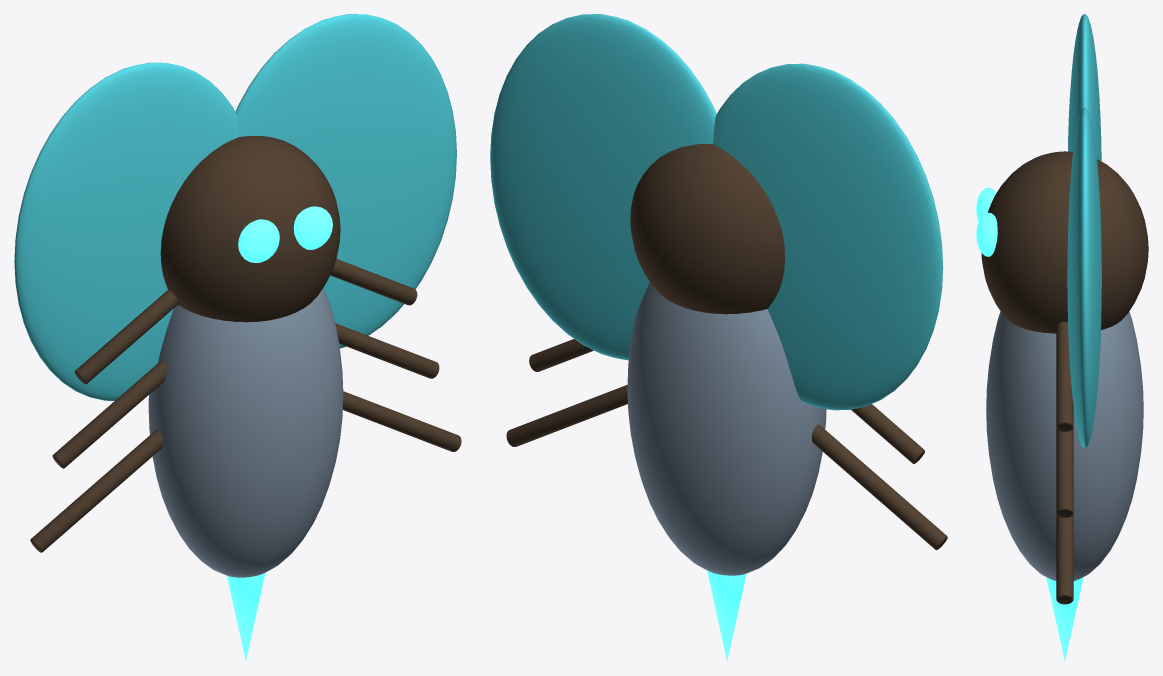
File: insect_v5.glb
3 renders of one model, left to right at view 1: azimuth 30°, elevation 25°; view 2: azimuth 150°, elevation 25°; view 3: azimuth 270°, elevation 25°, orthographic. The views are drawn at different scales.
Visible parts, largest first — view 1: HORNET_WING_ACCENT, HORNET_ABDOMEN_PRIMARY, HORNET_WING_ACCENT.001, HORNET_THORAX_SECONDARY, HORNET_LEG_SECONDARY.002, HORNET_LEG_SECONDARY.001, HORNET_LEG_SECONDARY, HORNET_LEG_SECONDARY.005, HORNET_LEG_SECONDARY.004, HORNET_STINGER_EMISSIVE, HORNET_LEG_SECONDARY.003, EYE_EMISSIVE (+1 smaller); view 2: HORNET_WING_ACCENT, HORNET_WING_ACCENT.001, HORNET_ABDOMEN_PRIMARY, HORNET_THORAX_SECONDARY, HORNET_LEG_SECONDARY.002, HORNET_LEG_SECONDARY.005, HORNET_STINGER_EMISSIVE, HORNET_LEG_SECONDARY.001, HORNET_LEG_SECONDARY.004; view 3: HORNET_ABDOMEN_PRIMARY, HORNET_THORAX_SECONDARY, HORNET_WING_ACCENT.001, HORNET_WING_ACCENT, HORNET_LEG_SECONDARY.003, HORNET_LEG_SECONDARY.005, HORNET_LEG_SECONDARY.004, HORNET_STINGER_EMISSIVE, EYE_EMISSIVE.001, EYE_EMISSIVE.
Boxes of the visible parts, x1,y1,x2,y2 form: HORNET_WING_ACCENT: [14, 62, 238, 400]; HORNET_ABDOMEN_PRIMARY: [148, 288, 343, 577]; HORNET_WING_ACCENT.001: [235, 14, 456, 348]; HORNET_THORAX_SECONDARY: [160, 136, 340, 322]; HORNET_LEG_SECONDARY.002: [30, 430, 163, 552]; HORNET_LEG_SECONDARY.001: [52, 360, 166, 468]; HORNET_LEG_SECONDARY: [74, 290, 179, 384]; HORNET_LEG_SECONDARY.005: [343, 391, 461, 451]; HORNET_LEG_SECONDARY.004: [335, 323, 439, 378]; HORNET_STINGER_EMISSIVE: [227, 573, 265, 660]; HORNET_LEG_SECONDARY.003: [330, 259, 417, 305]; EYE_EMISSIVE: [238, 219, 279, 262]; HORNET_WING_ACCENT: [713, 63, 943, 410]; HORNET_WING_ACCENT.001: [490, 14, 716, 360]; HORNET_ABDOMEN_PRIMARY: [627, 282, 826, 575]; HORNET_THORAX_SECONDARY: [630, 144, 784, 314]; HORNET_LEG_SECONDARY.002: [811, 424, 947, 549]; HORNET_LEG_SECONDARY.005: [506, 384, 627, 446]; HORNET_STINGER_EMISSIVE: [707, 570, 746, 661]; HORNET_LEG_SECONDARY.001: [851, 404, 924, 463]; HORNET_LEG_SECONDARY.004: [529, 339, 593, 371]; HORNET_ABDOMEN_PRIMARY: [986, 311, 1143, 580]; HORNET_THORAX_SECONDARY: [981, 151, 1148, 333]; HORNET_WING_ACCENT.001: [1067, 107, 1101, 448]; HORNET_WING_ACCENT: [1068, 14, 1101, 161]; HORNET_LEG_SECONDARY.003: [1056, 322, 1073, 431]; HORNET_LEG_SECONDARY.005: [1056, 513, 1073, 604]; HORNET_LEG_SECONDARY.004: [1056, 427, 1073, 517]; HORNET_STINGER_EMISSIVE: [1046, 577, 1083, 660]; EYE_EMISSIVE.001: [976, 212, 997, 256]; EYE_EMISSIVE: [976, 187, 996, 221].
Bounding box in the file's own units: 2 × 2.65 × 0.7.
